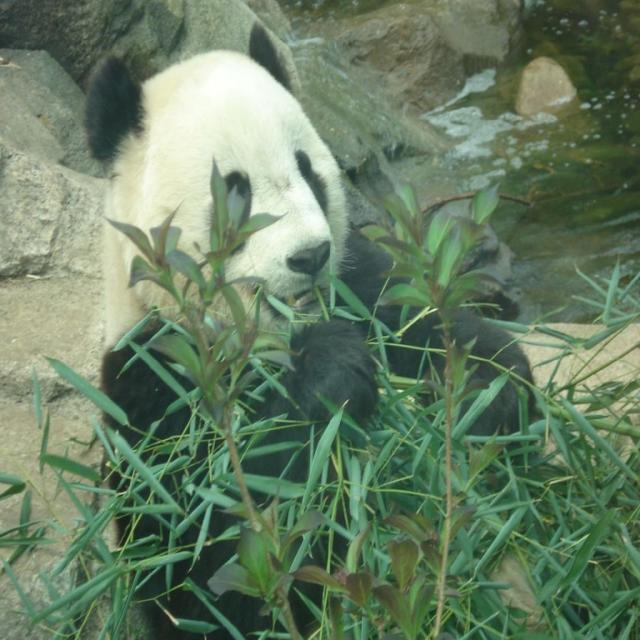panda: (81, 16, 587, 640)
